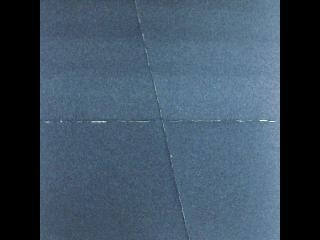crack: (127, 0, 200, 240), (40, 118, 278, 125)
